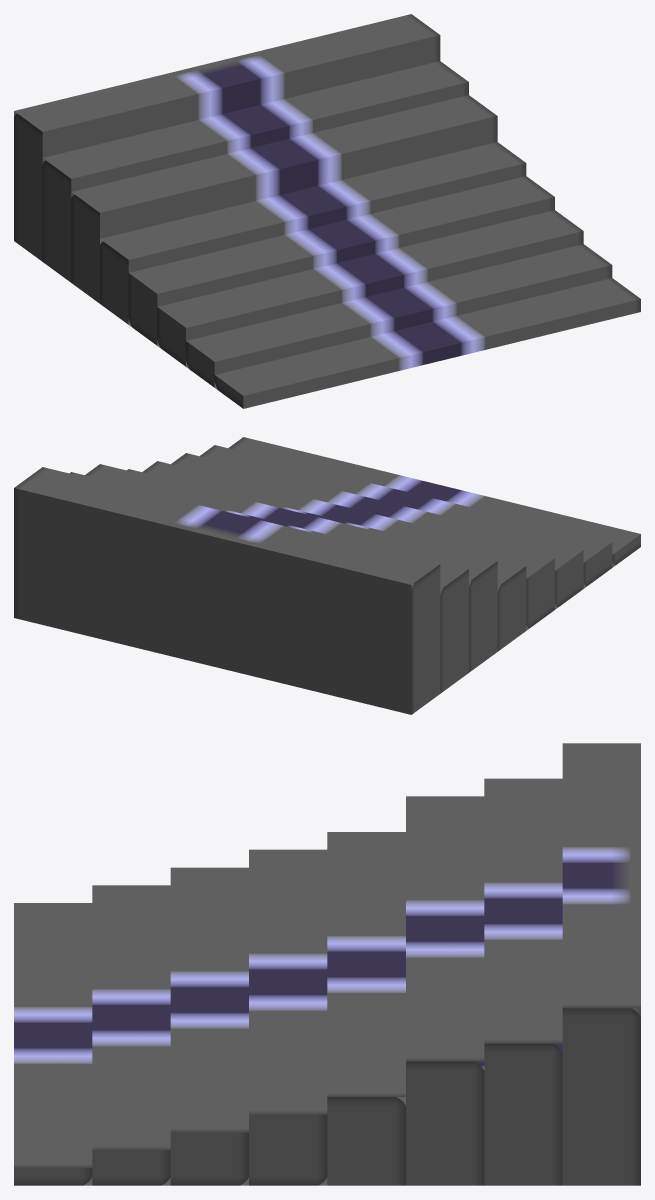
Rendered from schodywkinie.dae.
3 renders of one model, top to bottom at view 1: azimuth 30°, elevation 25°; view 2: azimuth 150°, elevation 25°; view 3: azimuth 270°, elevation 25°, orthographic. The views are drawn at different scales.
Parts seen in each view (by area): view 1: schodywkinie; view 2: schodywkinie; view 3: schodywkinie.
Boxes of the visible parts, box(x1,y1,x2,y2) form: schodywkinie: box(14, 14, 640, 408); schodywkinie: box(14, 437, 640, 714); schodywkinie: box(14, 743, 640, 1185).
Bounding box in the file's own units: 32 × 10 × 32.
Materials: 1 (1 with a texture image).
